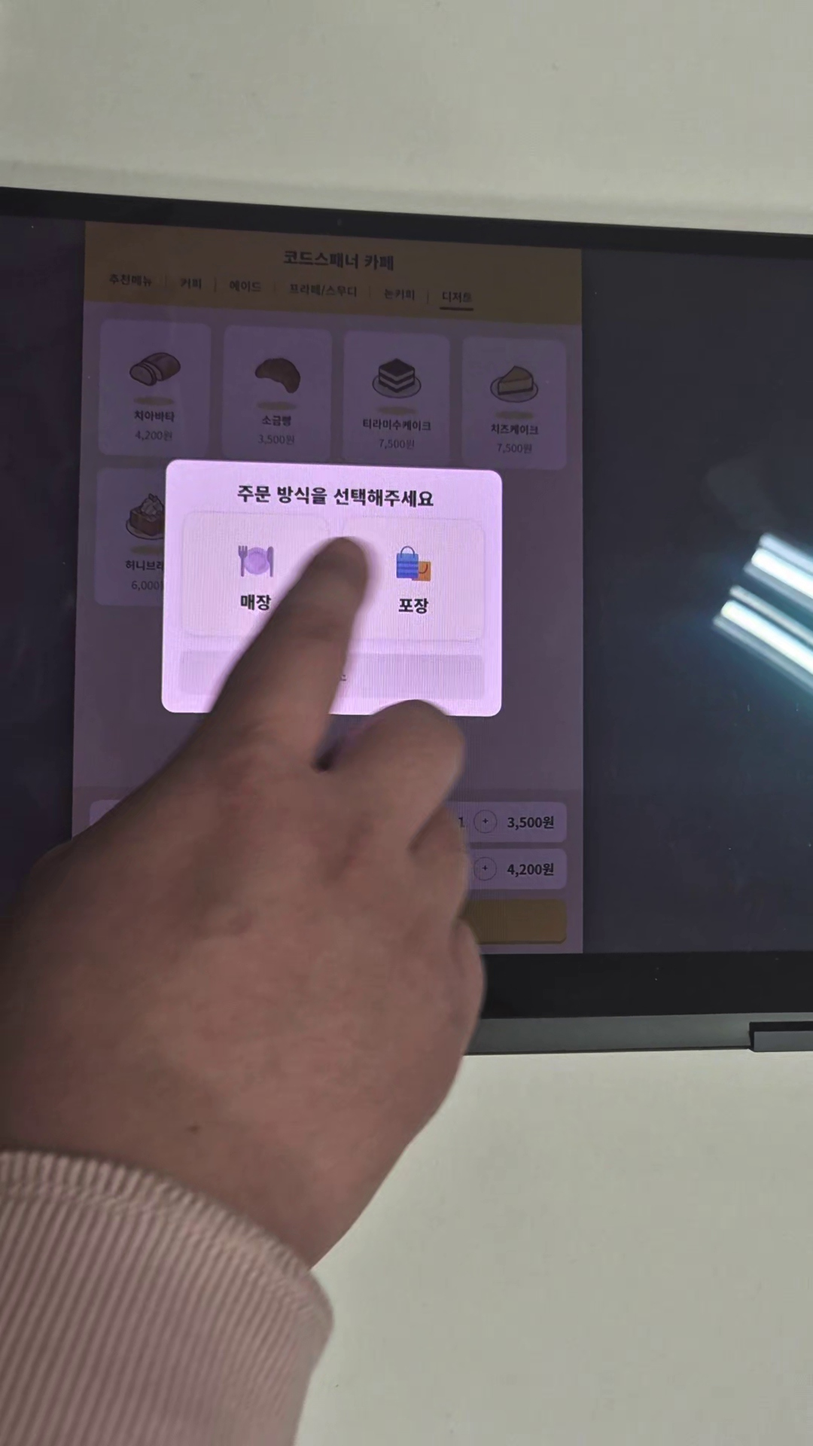action_button: (177, 650, 484, 698)
option_button: (182, 507, 330, 638), (352, 518, 485, 639)
popup_modal: (161, 458, 506, 717)
